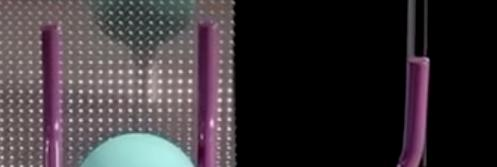algae: (79, 133, 195, 167)
